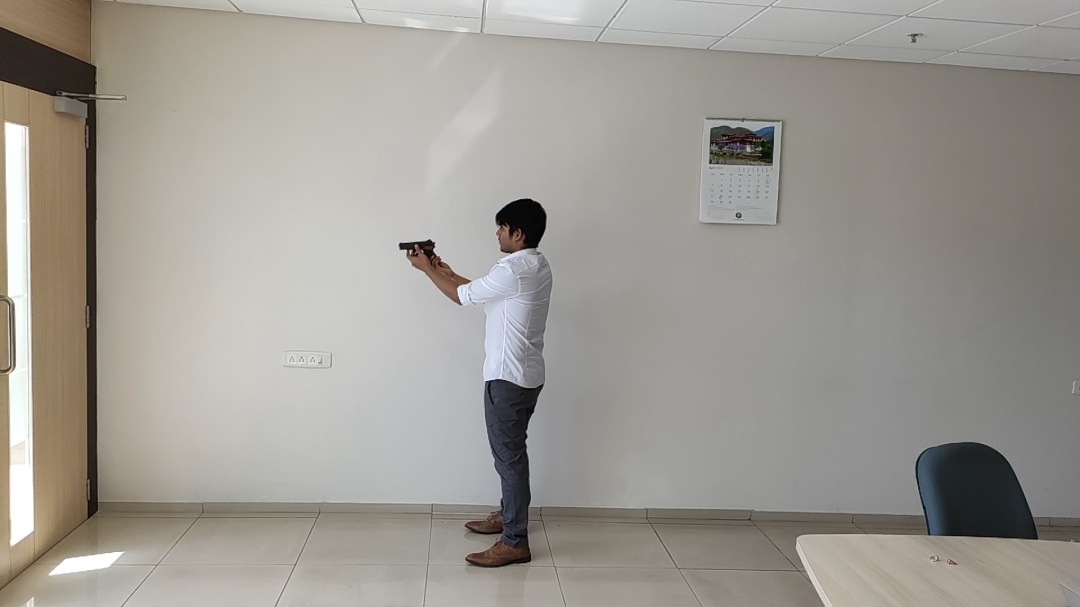gun: (281, 100, 610, 607)
